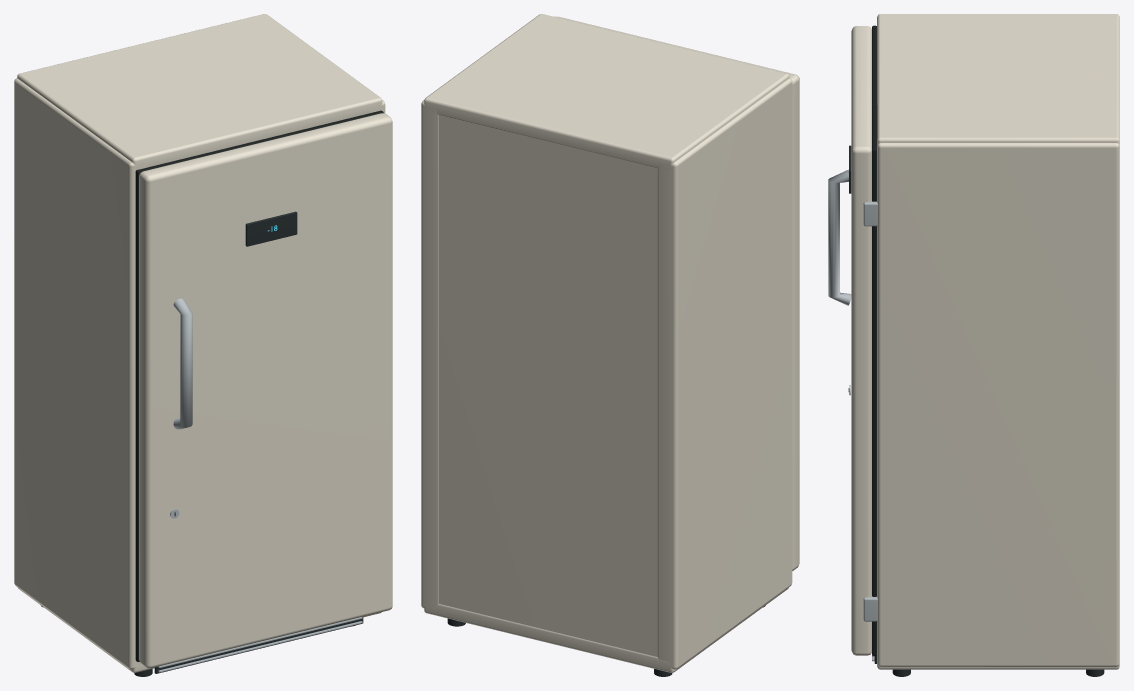
The model's file is kitchen-upright-freezer.glb.
The picture shows the model from 3 angles, left to right: view 1: azimuth 30°, elevation 25°; view 2: azimuth 150°, elevation 25°; view 3: azimuth 270°, elevation 25°; orthographic projection. The views are drawn at different scales.
Parts seen in each view (by area): view 1: kitchen-upright-freezer authored assembly; view 2: kitchen-upright-freezer authored assembly; view 3: kitchen-upright-freezer authored assembly.
Boxes of the visible parts, x1=… form: kitchen-upright-freezer authored assembly: x1=14, y1=14, x2=392, y2=676; kitchen-upright-freezer authored assembly: x1=421, y1=14, x2=799, y2=676; kitchen-upright-freezer authored assembly: x1=828, y1=14, x2=1119, y2=676.
Bounding box in the file's own units: 0.84 × 1.65 × 0.8.
